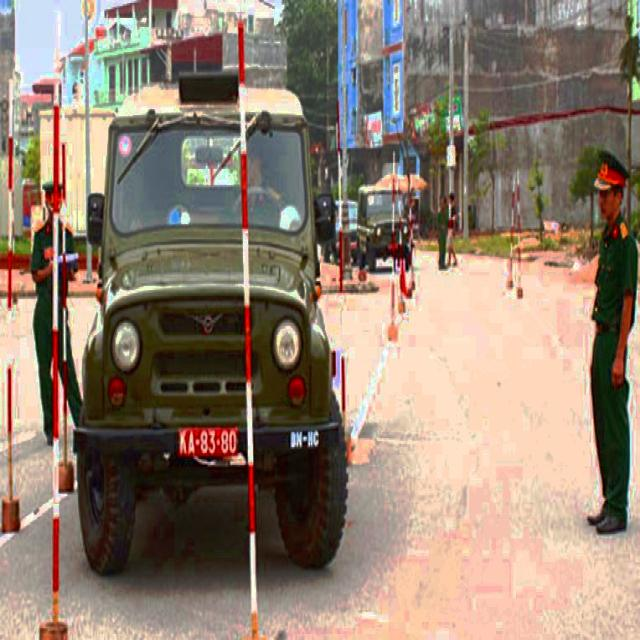license_plate: (177, 427, 241, 460)
